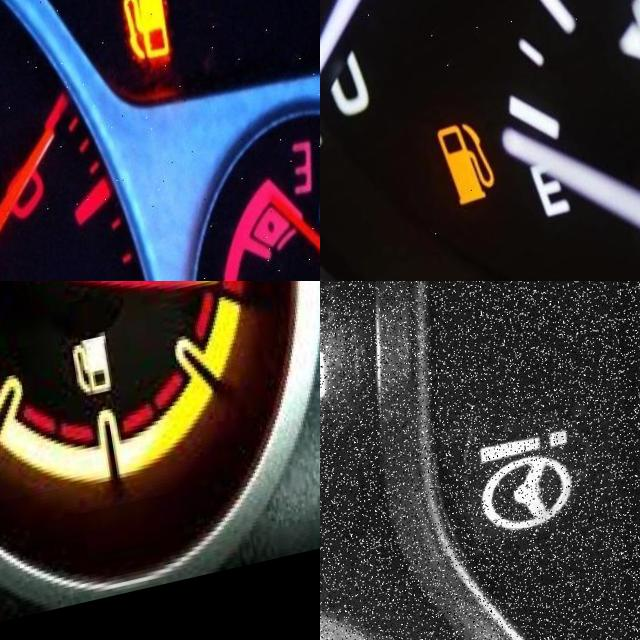Electronic Power Steering: (452, 429, 595, 558)
